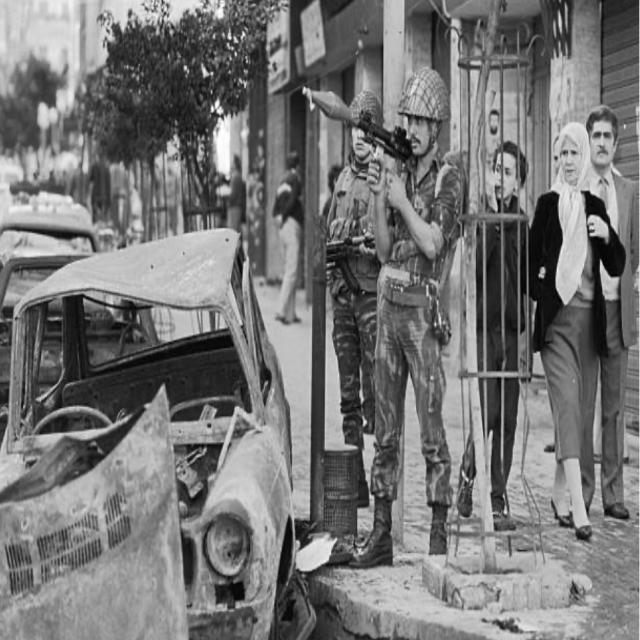bazooka: (301, 80, 418, 168)
